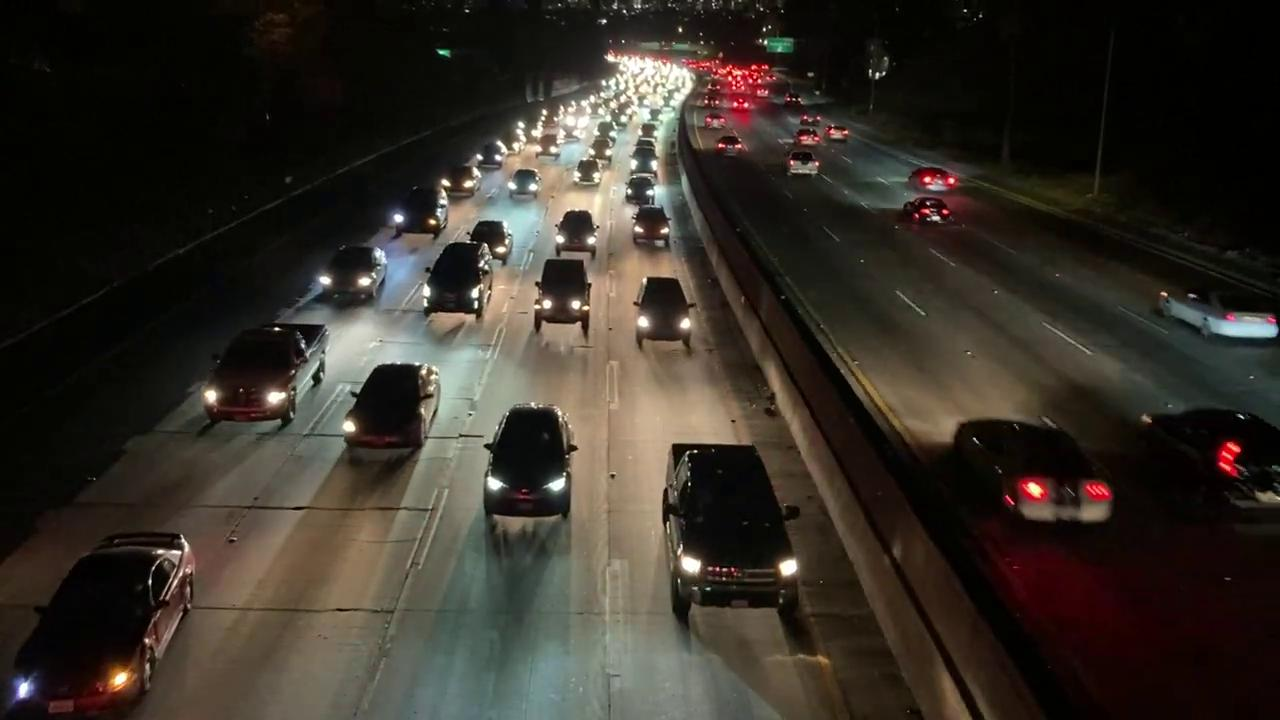car: (4, 522, 200, 707), (664, 430, 810, 608), (952, 400, 1116, 532), (205, 320, 334, 428), (474, 398, 576, 516), (344, 359, 440, 449), (1155, 290, 1280, 342), (417, 242, 495, 316), (531, 259, 599, 332), (630, 276, 691, 347), (321, 245, 388, 292), (390, 189, 454, 234), (554, 210, 602, 252), (469, 220, 516, 261), (631, 205, 673, 241), (906, 198, 957, 226), (507, 166, 544, 202), (911, 168, 963, 193), (439, 165, 483, 194), (786, 145, 824, 175), (571, 158, 603, 186), (626, 177, 655, 202), (714, 131, 744, 155), (823, 121, 849, 138), (703, 112, 724, 128)
